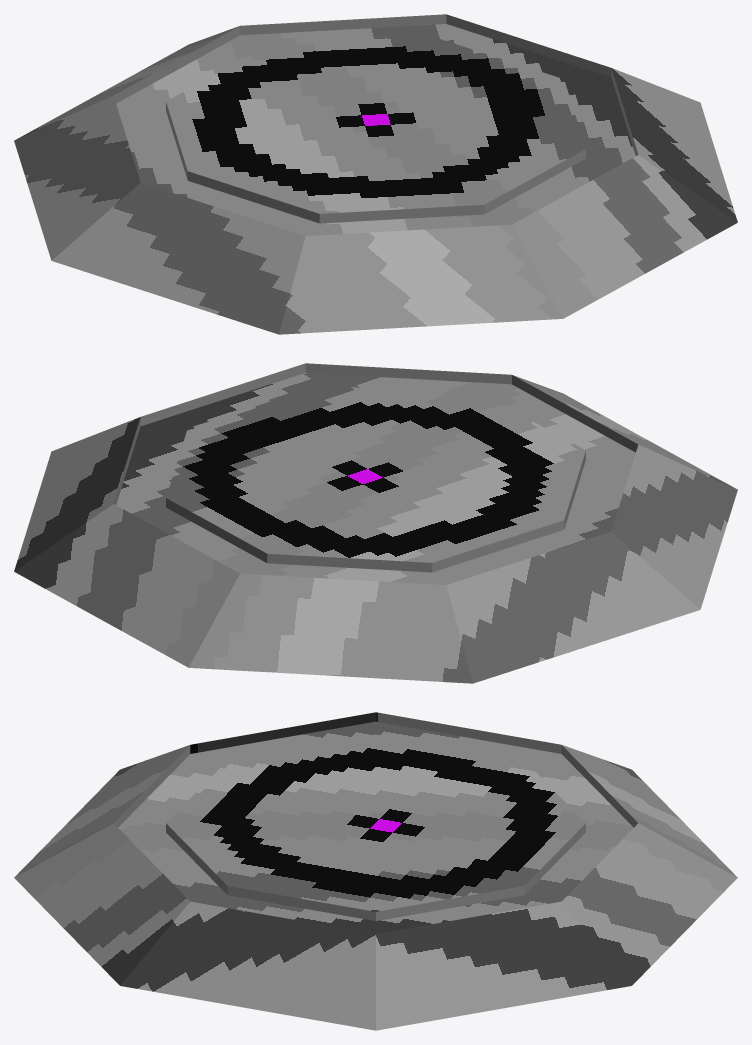
The model's file is chekinpoint.glb.
3 views of the same model, one above another, from view 1: azimuth 30°, elevation 25°; view 2: azimuth 150°, elevation 25°; view 3: azimuth 270°, elevation 25° (orthographic). The views are drawn at different scales.
Visible parts, largest first — view 1: Cylinder-col; view 2: Cylinder-col; view 3: Cylinder-col.
Part boxes in pixels (x1,y1,x2,y2): Cylinder-col: [14, 14, 737, 334]; Cylinder-col: [14, 363, 737, 683]; Cylinder-col: [14, 712, 737, 1030].
Bounding box in the file's own units: 8 × 0.6654 × 8.
1 material, 1 textured.
